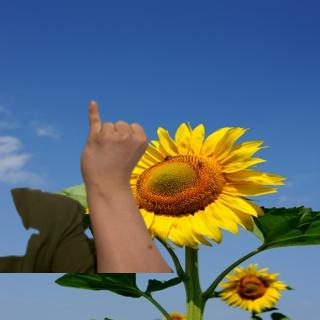FINE: (74, 96, 153, 202)
